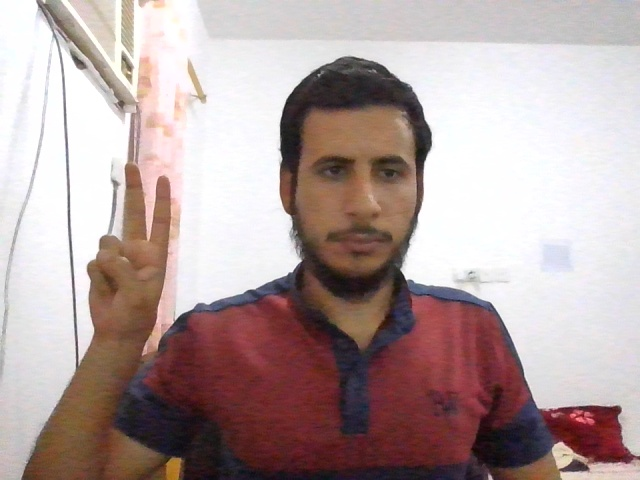Two: (87, 163, 173, 332)
